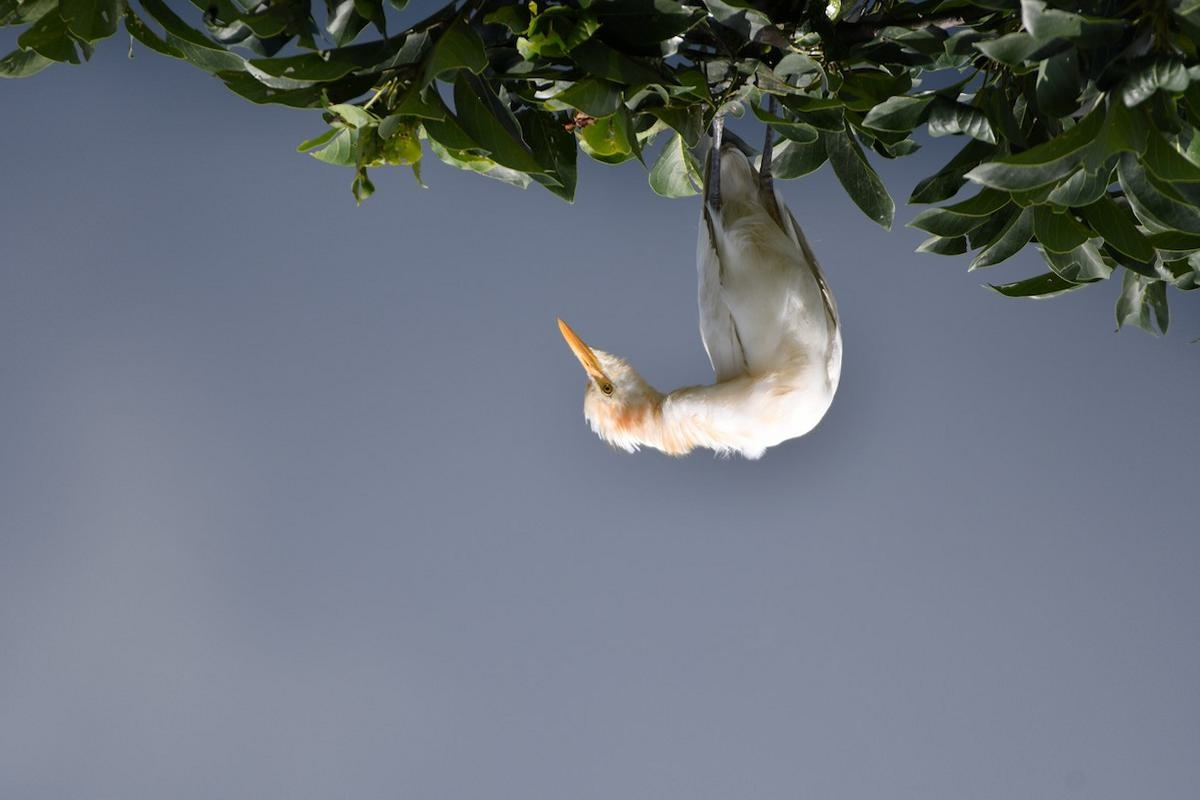egret: (570, 117, 854, 471)
